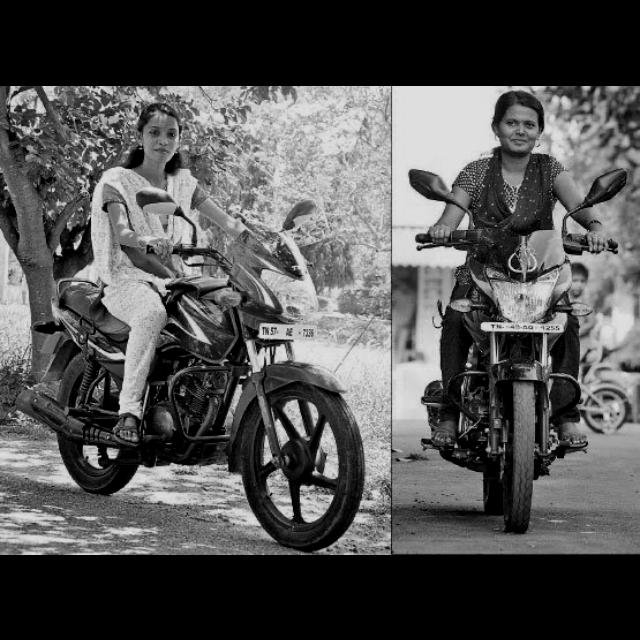Without Helmet: (124, 100, 190, 163), (487, 90, 547, 158)
